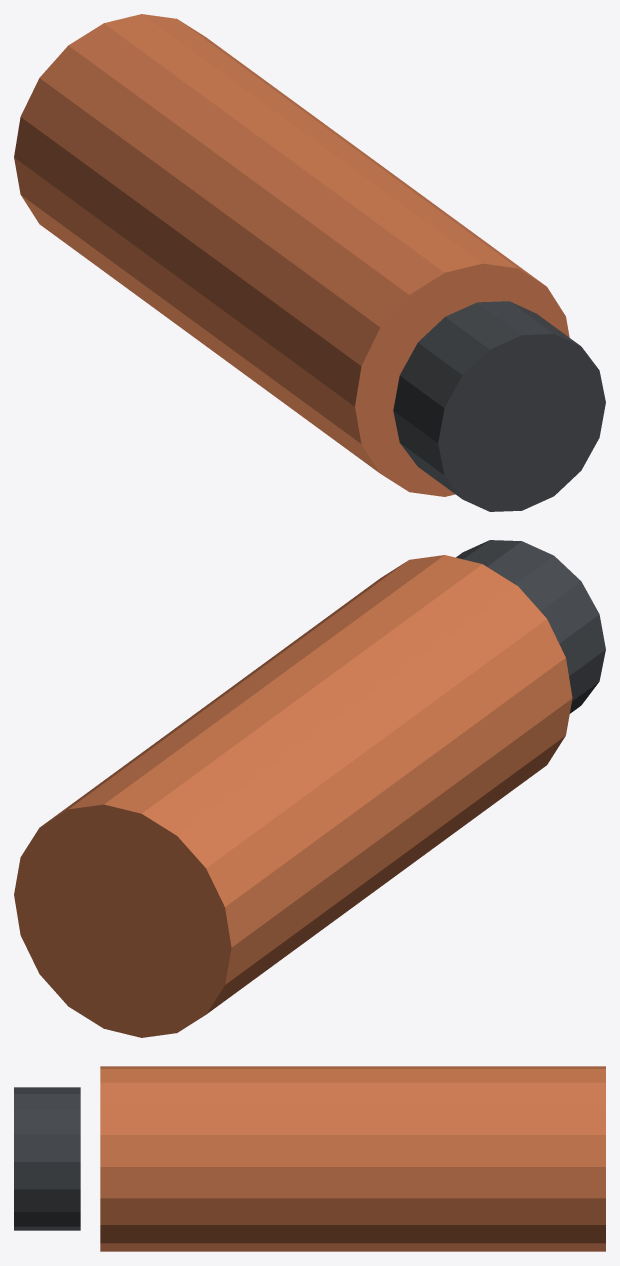
3 views of the same model, one above another, from view 1: azimuth 30°, elevation 25°; view 2: azimuth 150°, elevation 25°; view 3: azimuth 270°, elevation 25° (orthographic). The views are drawn at different scales.
Parts seen in each view (by area): view 1: geometry_0; view 2: geometry_0; view 3: geometry_0.
Boxes of the visible parts, bbox=[...] form: geometry_0: bbox=[14, 14, 605, 511]; geometry_0: bbox=[14, 540, 605, 1037]; geometry_0: bbox=[14, 1066, 605, 1251].
Bounding box in the file's own units: 0.07 × 0.0689 × 0.2225.
